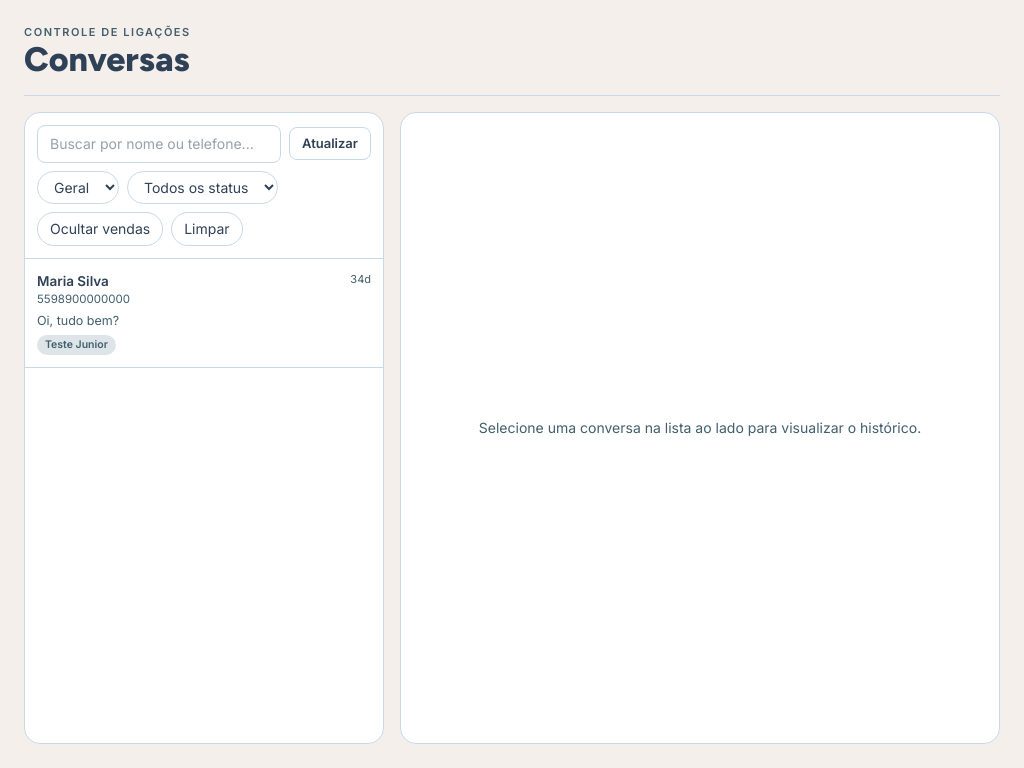
Test: ConversasPage — mensagens de áudio › mensagem de áudio indisponível renderiza o texto normalmente, sem player
The image size is (1024, 768).
Click the text "Maria Silva" at (73, 280), box x1=37 y1=272 x2=109 y2=288
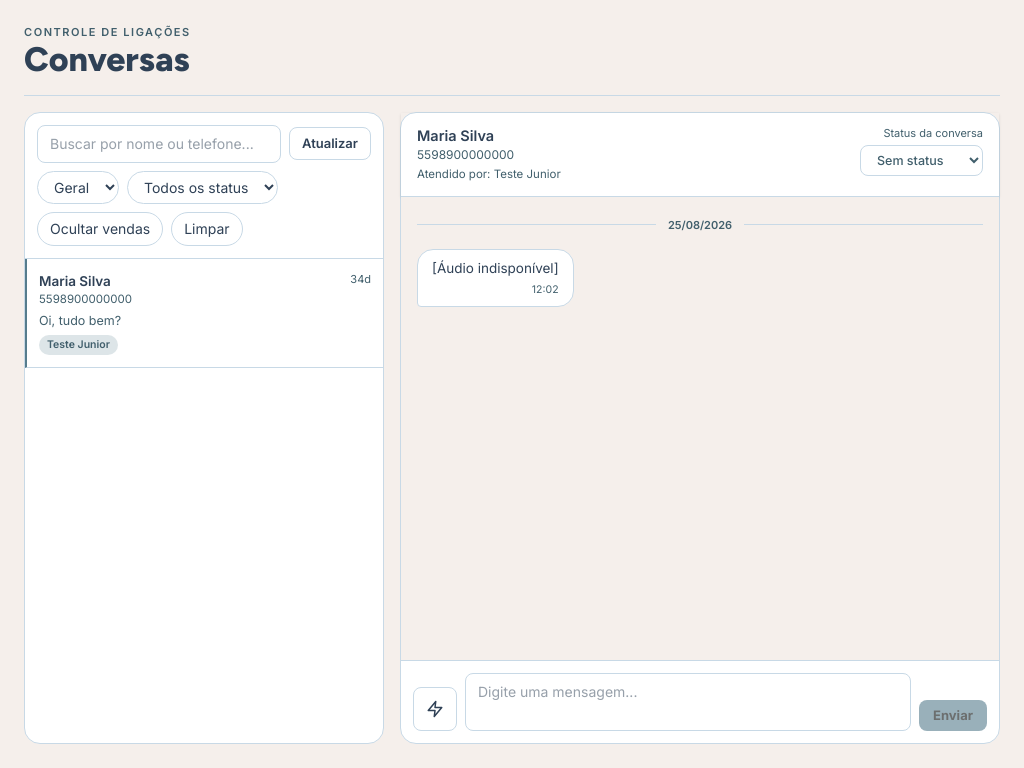
Check: the text "[Áudio indisponível]" is shown, box x1=432 y1=258 x2=559 y2=278
